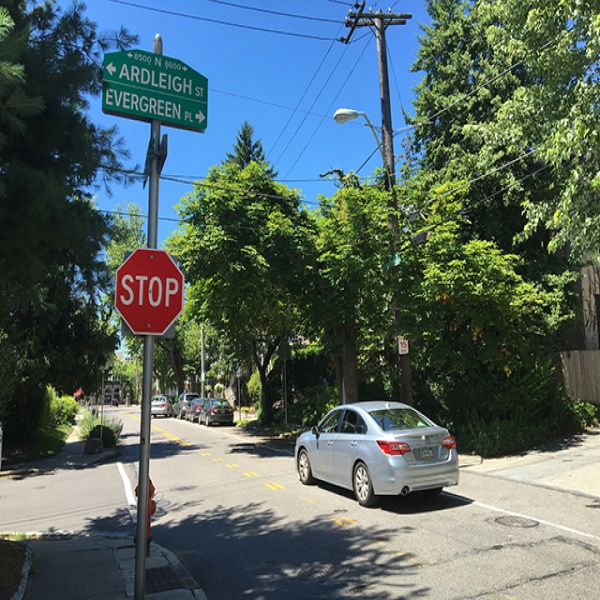stop: (120, 250, 181, 331)
